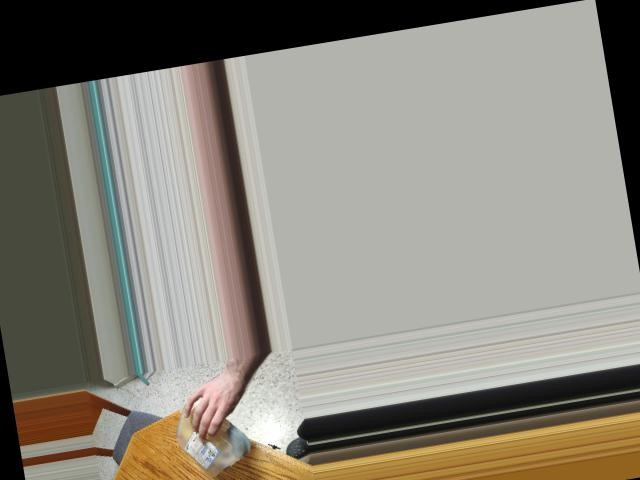cheese: (167, 384, 254, 480)
